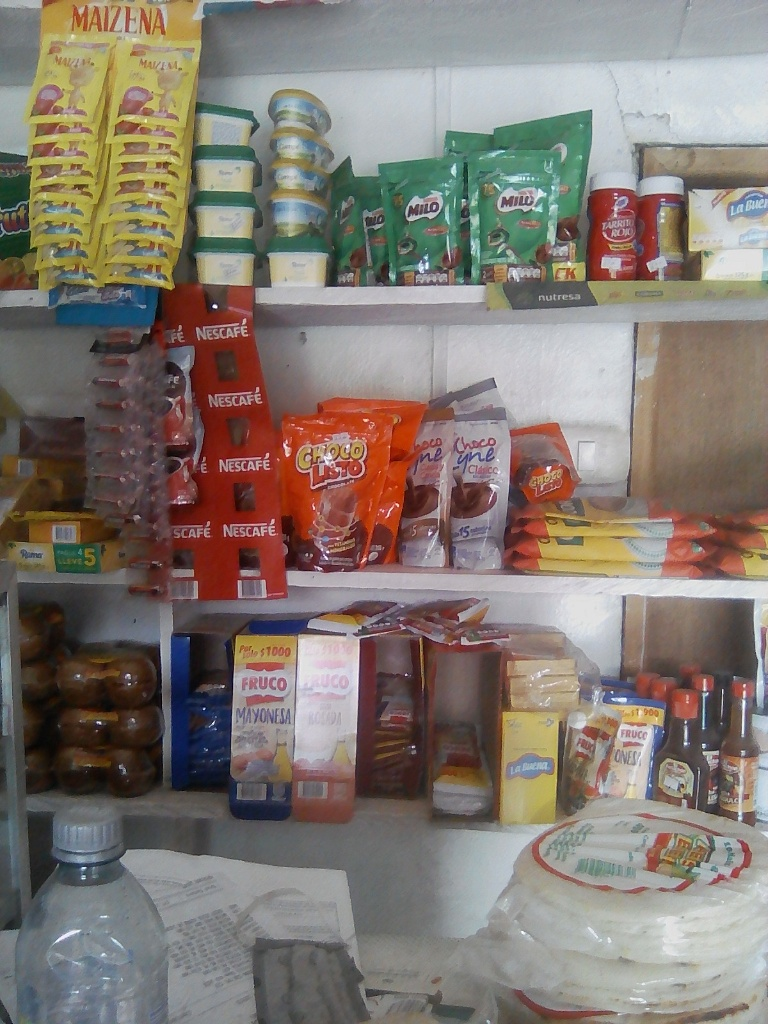COL0170203DYP10000: (383, 150, 469, 286)
